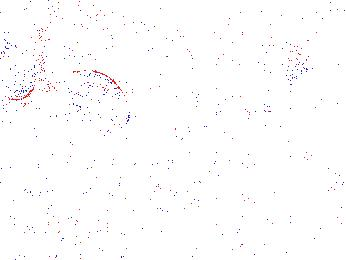moon jellyfish: (195, 38, 291, 112), (124, 40, 218, 96), (46, 70, 131, 127), (1, 43, 45, 101)
